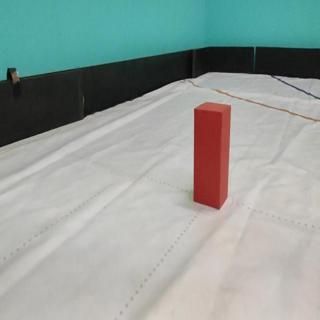redbox: (193, 101, 231, 210)
